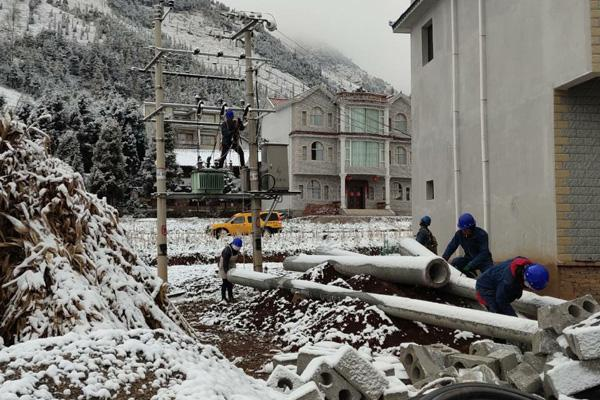helmet: (524, 262, 551, 293), (457, 214, 478, 232), (420, 216, 433, 229), (232, 238, 245, 250), (226, 111, 236, 122)
